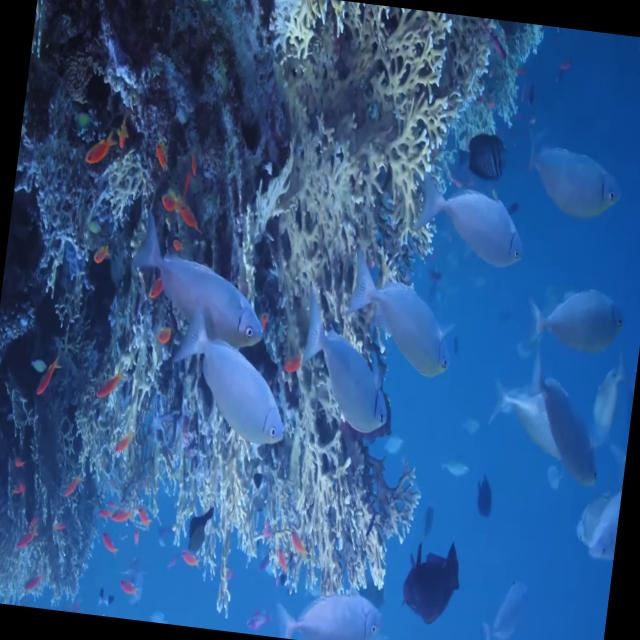fish: (120, 224, 276, 348), (162, 310, 296, 446), (292, 285, 406, 439), (341, 254, 464, 384), (520, 335, 616, 485), (412, 164, 532, 269), (520, 126, 628, 223), (488, 377, 596, 468), (525, 282, 627, 366), (279, 580, 388, 640), (398, 538, 462, 634)
